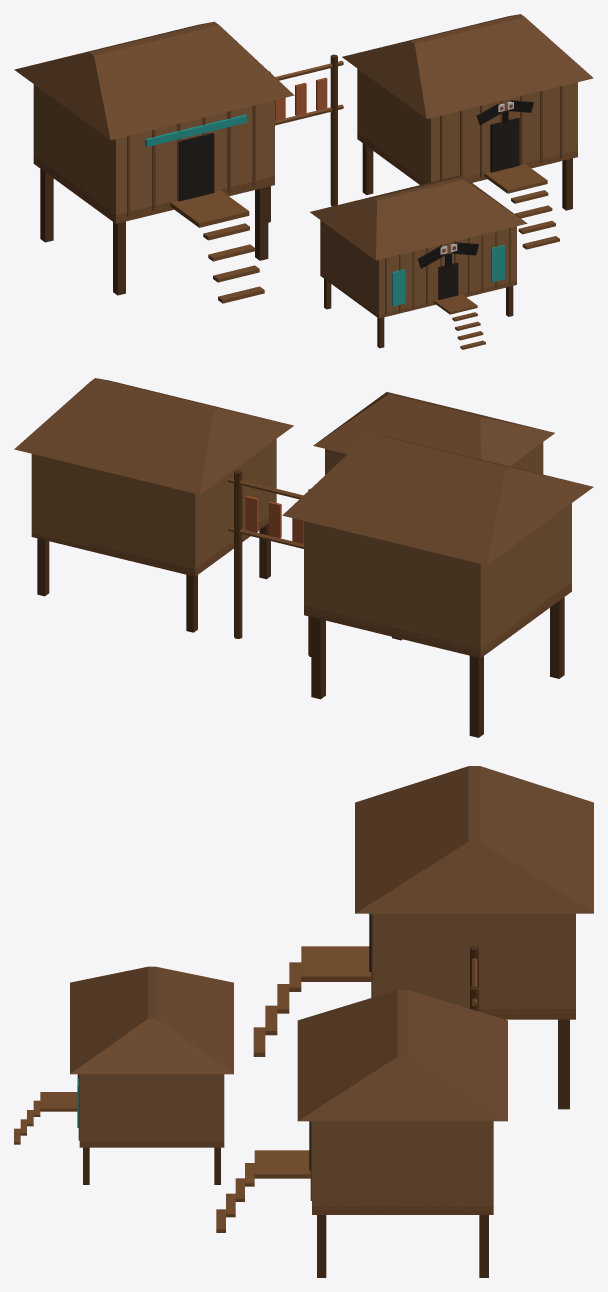
File: bird_compound.glb
3 views of the same model, one above another, from view 1: azimuth 30°, elevation 25°; view 2: azimuth 150°, elevation 25°; view 3: azimuth 270°, elevation 25° (orthographic). The views are drawn at different scales.
Visible parts, largest first — view 1: bird_compound; view 2: bird_compound; view 3: bird_compound.
Boxes of the visible parts, left/top/right/bottom form: bird_compound: left=14, top=14, right=593, bottom=349; bird_compound: left=14, top=378, right=593, bottom=737; bird_compound: left=14, top=766, right=593, bottom=1277.
Bounding box in the file's own units: 5.5 × 2.4 × 4.85.
